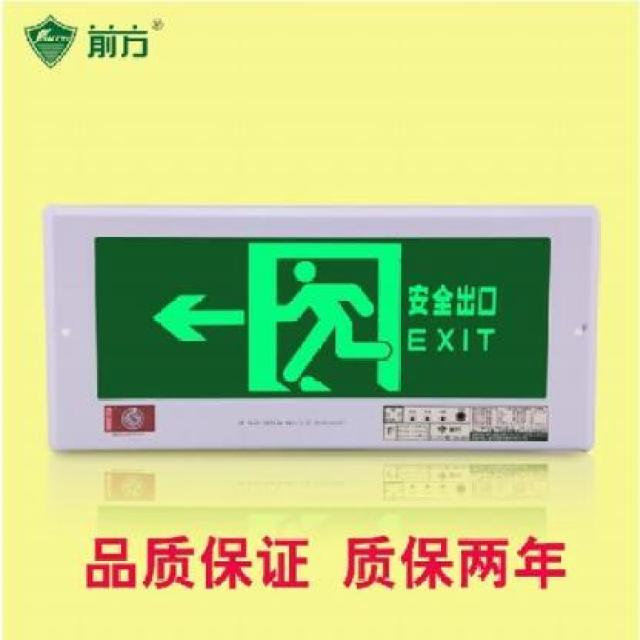exit_sign: (80, 226, 558, 412)
